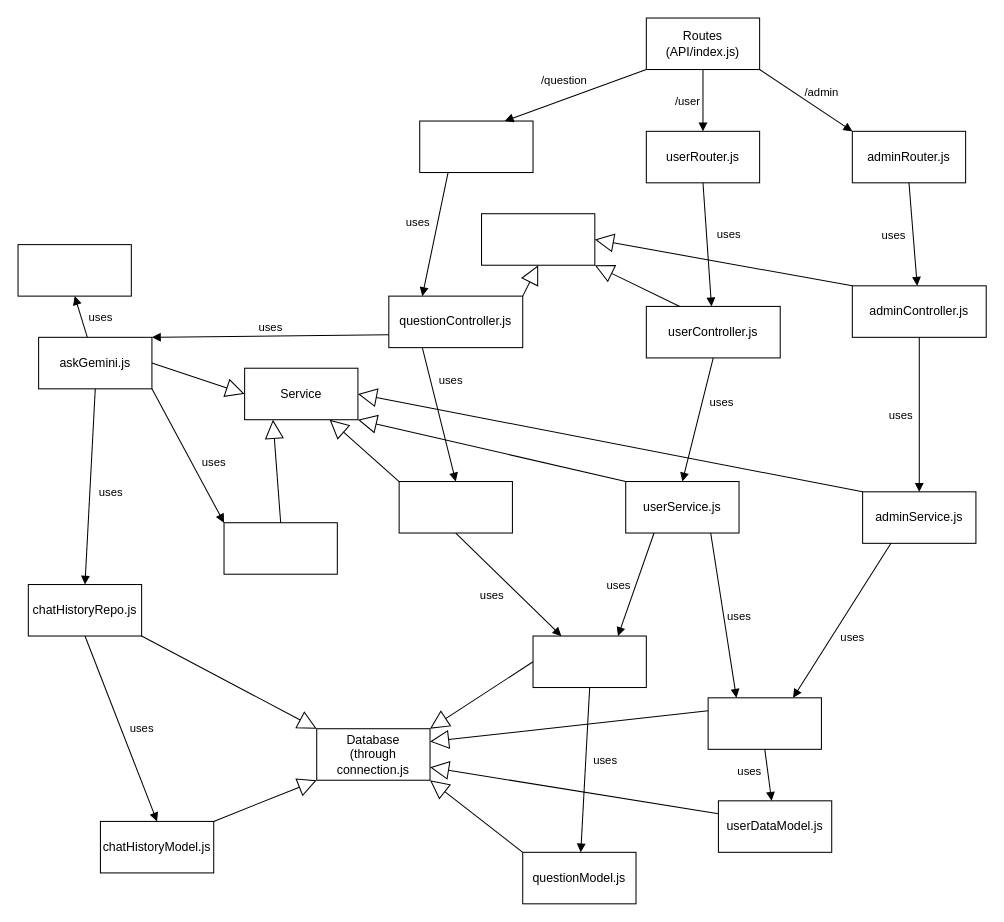
This 1004x922 diagram has some shape labels left out. Each missing label, with the centre of its shape:
Controller: the point at 537,239
OutputParser.js: the point at 280,548
questionRepo.js: the point at 589,661
questionRouter.js: the point at 476,146
questionService.js: the point at 455,506
userDataRepo.js: the point at 764,723
Utils: the point at 74,270
